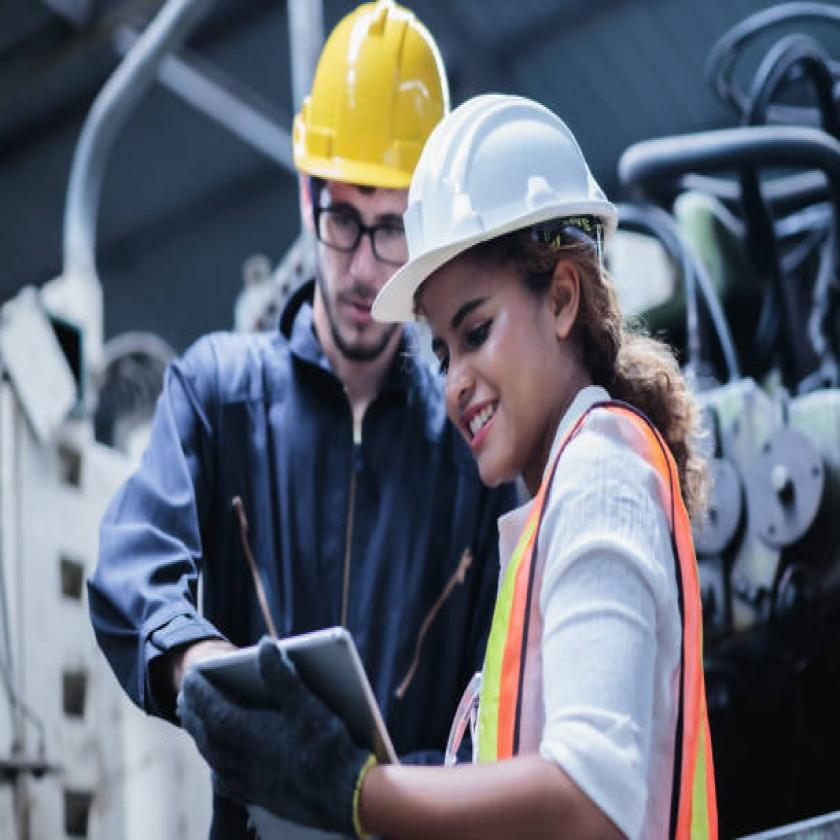Con_casco: (398, 83, 677, 490), (281, 10, 451, 366)
